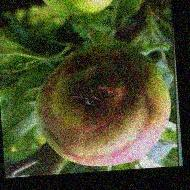rotten apple: (32, 45, 173, 167)
